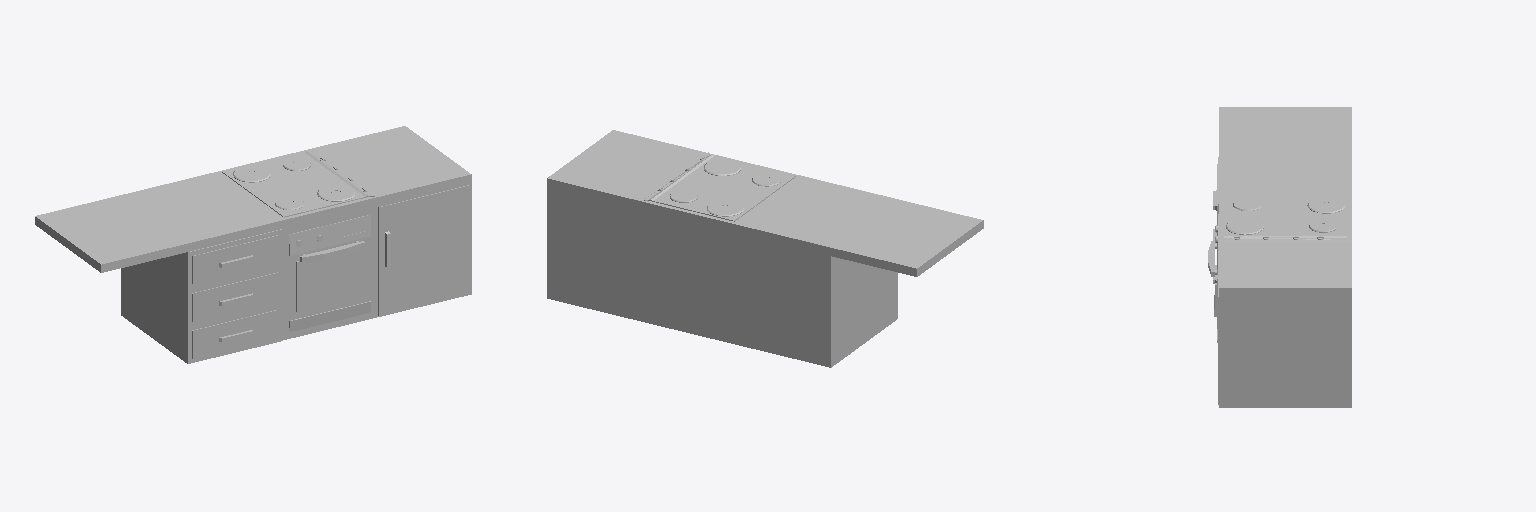
The model's file is fired_stove.obj.
3 renders of one model, left to right at view 1: azimuth 30°, elevation 25°; view 2: azimuth 150°, elevation 25°; view 3: azimuth 270°, elevation 25°, orthographic.
Parts seen in each view (by area): view 1: fkc; view 2: fkc; view 3: fkc.
Boxes of the visible parts, x1,y1,x2,y2 form: fkc: [35, 126, 471, 363]; fkc: [547, 130, 983, 367]; fkc: [1208, 107, 1351, 407].
Size of the model in its own units: 87.27 by 27.69 by 29.34.